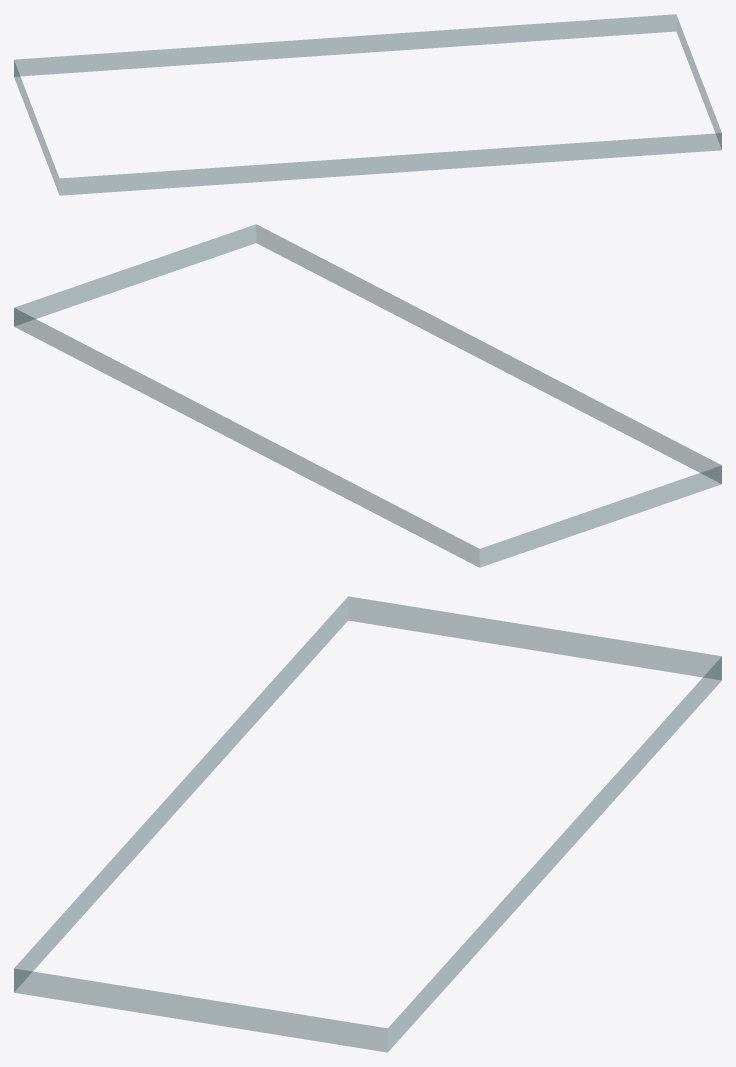
The model's file is H1_F2_Crystal.gltf.
3 views of the same model, one above another, from view 1: azimuth 30°, elevation 25°; view 2: azimuth 150°, elevation 25°; view 3: azimuth 270°, elevation 25° (orthographic). The views are drawn at different scales.
Parts seen in each view (by area): view 1: H1_F2_Crystal; view 2: H1_F2_Crystal; view 3: H1_F2_Crystal.
Part boxes in pixels (bbox=[...]): H1_F2_Crystal: bbox=[14, 14, 721, 195]; H1_F2_Crystal: bbox=[14, 224, 721, 567]; H1_F2_Crystal: bbox=[14, 596, 721, 1052].
Bounding box in the file's own units: 49.04 × 1.28 × 33.96.
